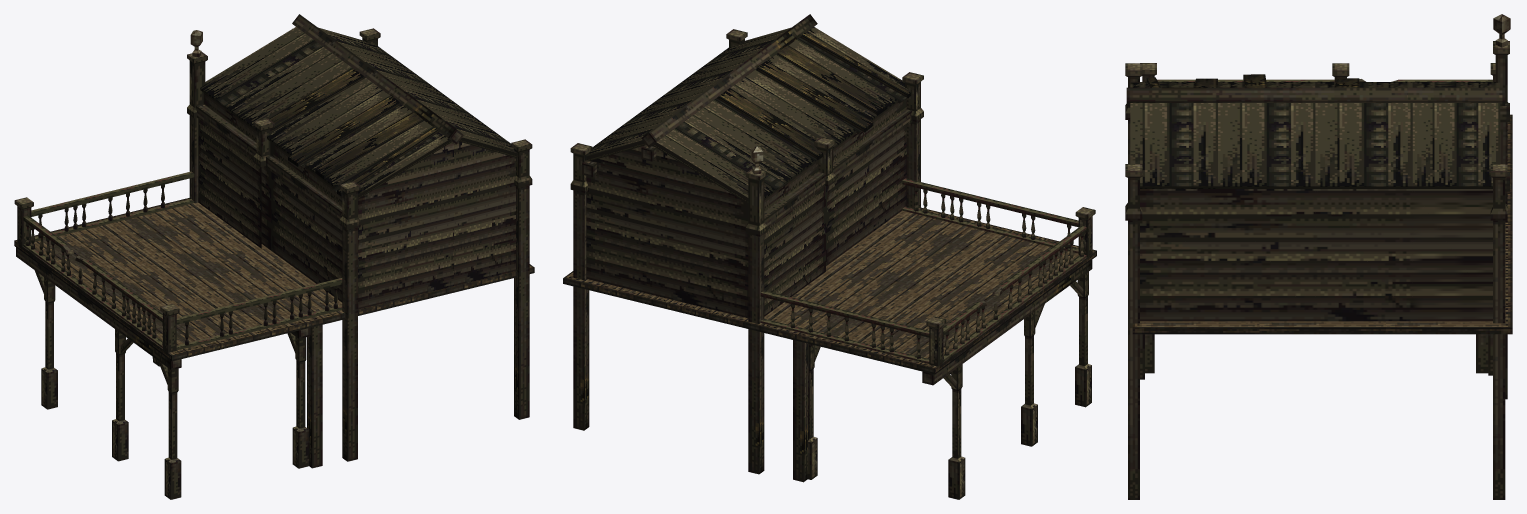
Rendered from EnvBdgMD_Wilderness_A_Outdoor_Shop_Pub_Broken_B.FBX.
3 renders of one model, left to right at view 1: azimuth 30°, elevation 25°; view 2: azimuth 150°, elevation 25°; view 3: azimuth 270°, elevation 25°, orthographic. The views are drawn at different scales.
Parts seen in each view (by area): view 1: EnvBdgMD_Wilderness_A_Outdoor_Shop_Pub_Broken_B; view 2: EnvBdgMD_Wilderness_A_Outdoor_Shop_Pub_Broken_B; view 3: EnvBdgMD_Wilderness_A_Outdoor_Shop_Pub_Broken_B.
Boxes of the visible parts, left/top/right/bottom form: EnvBdgMD_Wilderness_A_Outdoor_Shop_Pub_Broken_B: left=14, top=14, right=534, bottom=499; EnvBdgMD_Wilderness_A_Outdoor_Shop_Pub_Broken_B: left=563, top=14, right=1096, bottom=499; EnvBdgMD_Wilderness_A_Outdoor_Shop_Pub_Broken_B: left=1125, top=14, right=1512, bottom=499.
Size of the model in its own units: 1040 by 865 by 795.
1 material, 1 textured.
